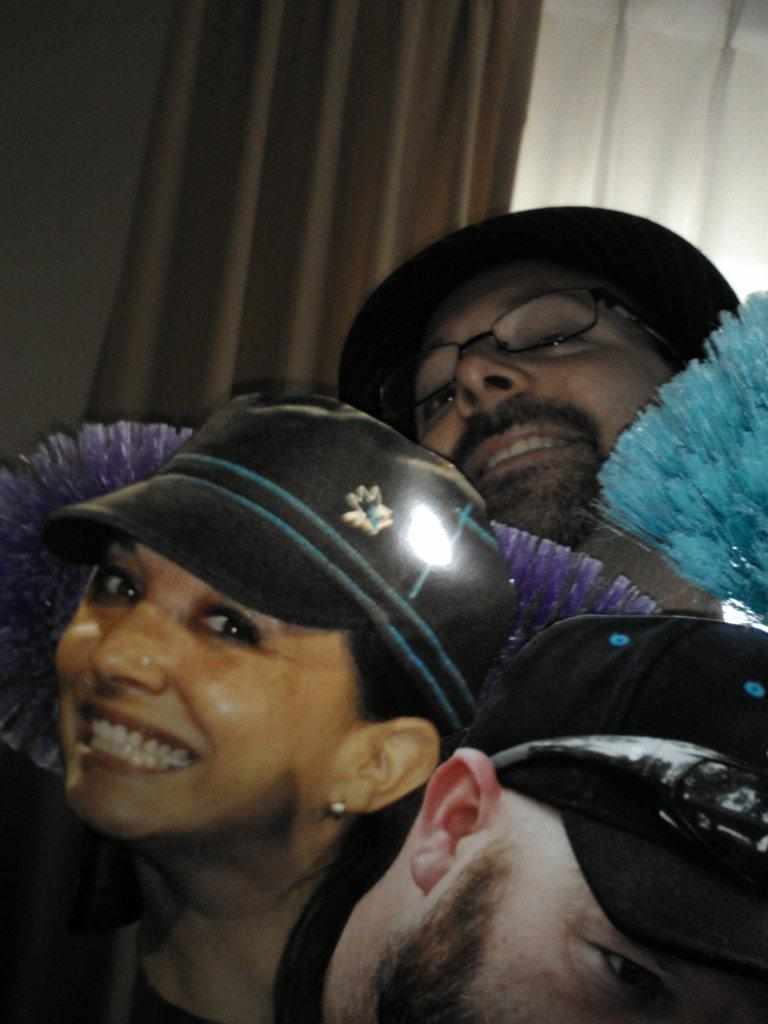Hat: (40, 389, 523, 749), (464, 602, 766, 974)
